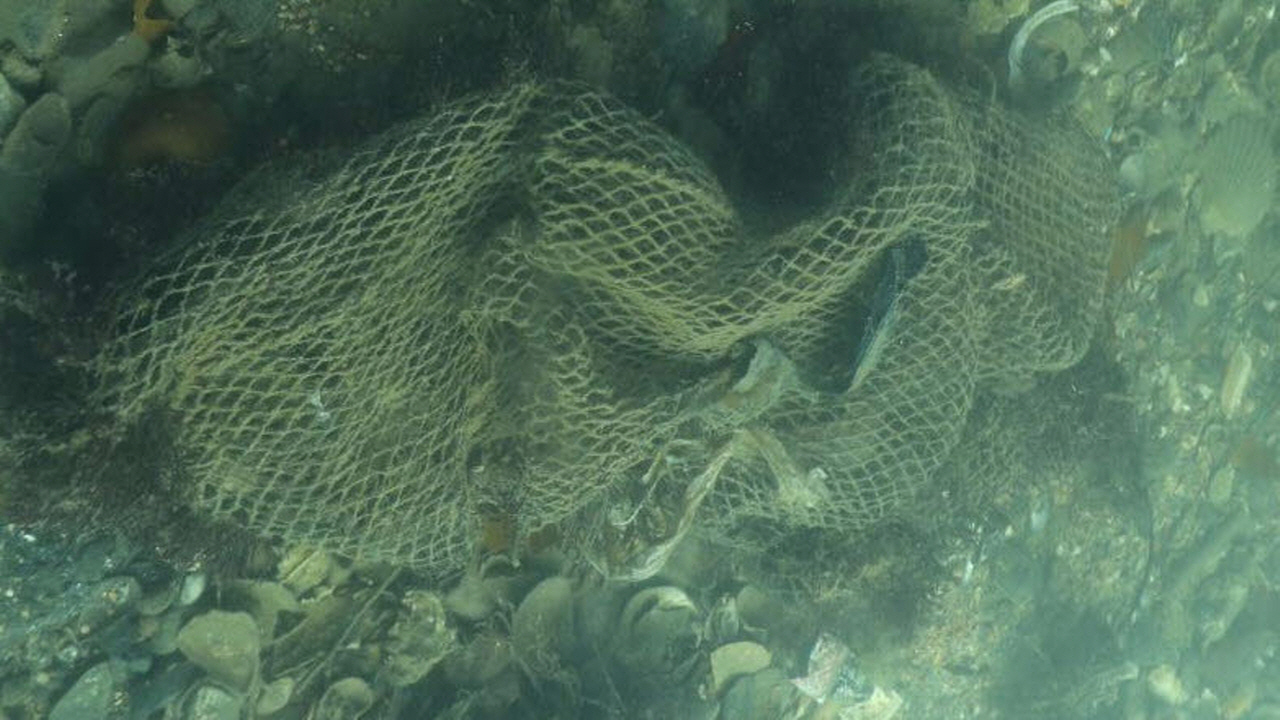fish net: (86, 50, 1123, 561)
